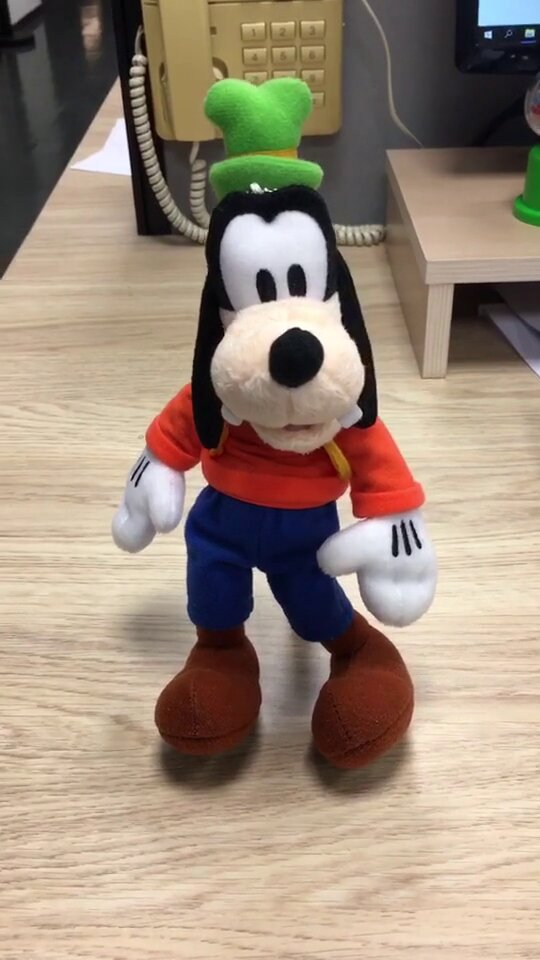goofy: (107, 66, 441, 766)
